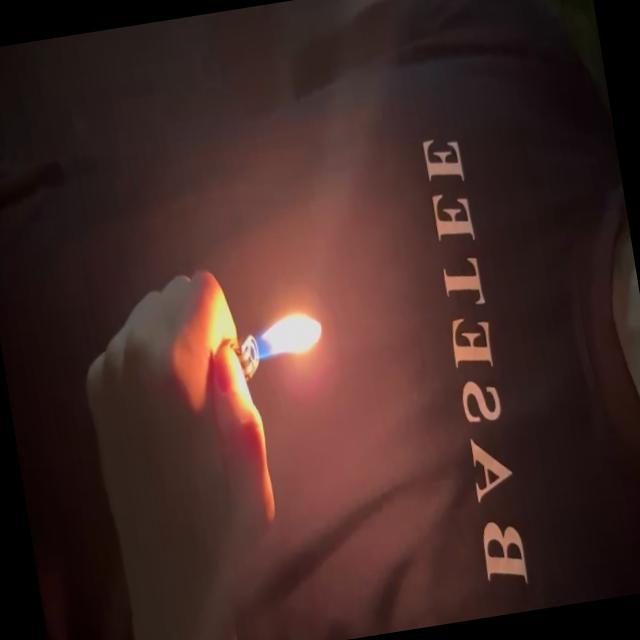Fire: (247, 308, 329, 363)
